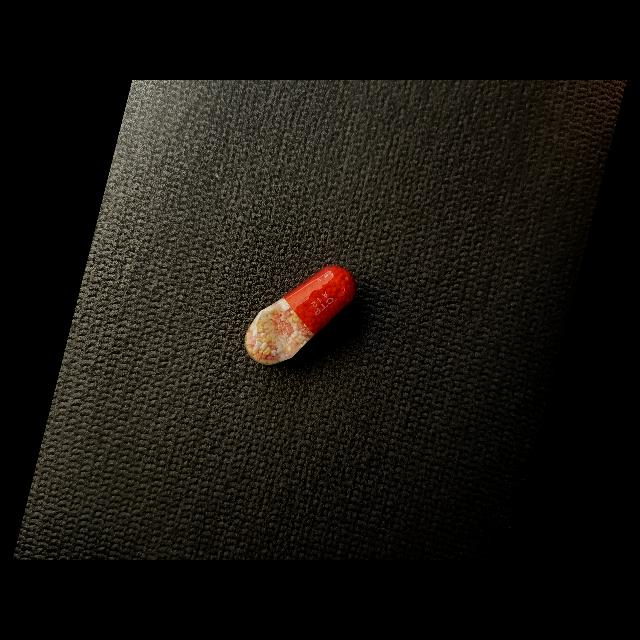Defective Capsule: (245, 266, 356, 365)
